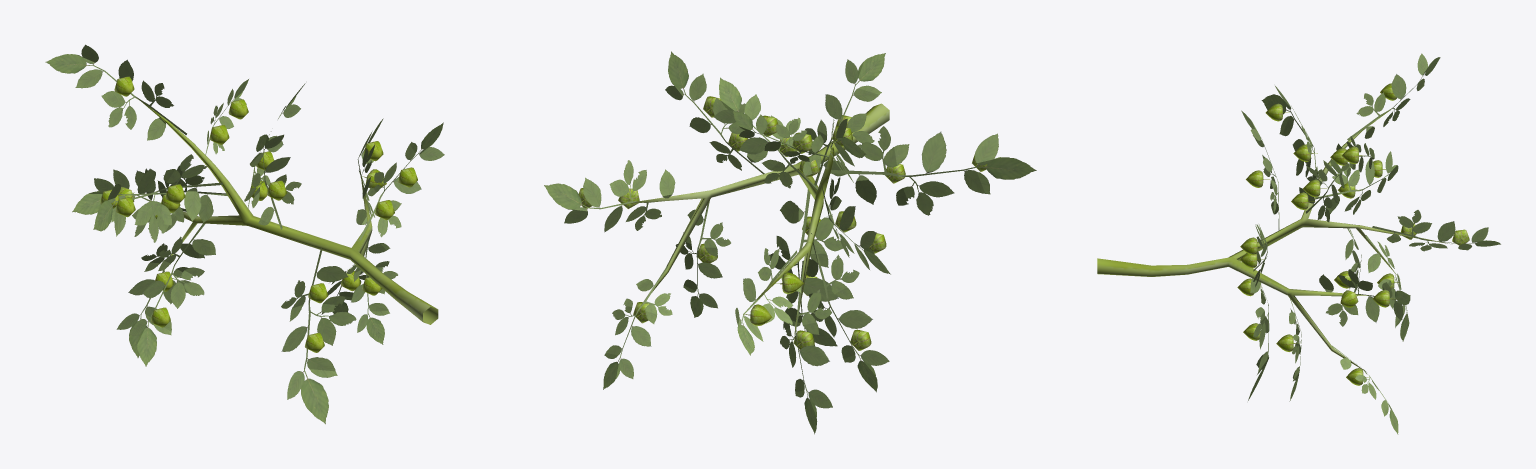
The model's file is wit_ceplukan.fbx.
3 views of the same model, side by side, from view 1: azimuth 30°, elevation 25°; view 2: azimuth 150°, elevation 25°; view 3: azimuth 270°, elevation 25° (orthographic). The views are drawn at different scales.
Parts seen in each view (by area): view 1: Circle; view 2: Circle; view 3: Circle.
Boxes of the visible parts, <box> form: Circle: <box>45,44,444,424</box>; Circle: <box>544,51,1036,434</box>; Circle: <box>1097,53,1500,434</box>.
Bounding box in the file's own units: 1915 × 1741 × 1966.
Materials: 2 (2 with a texture image).
